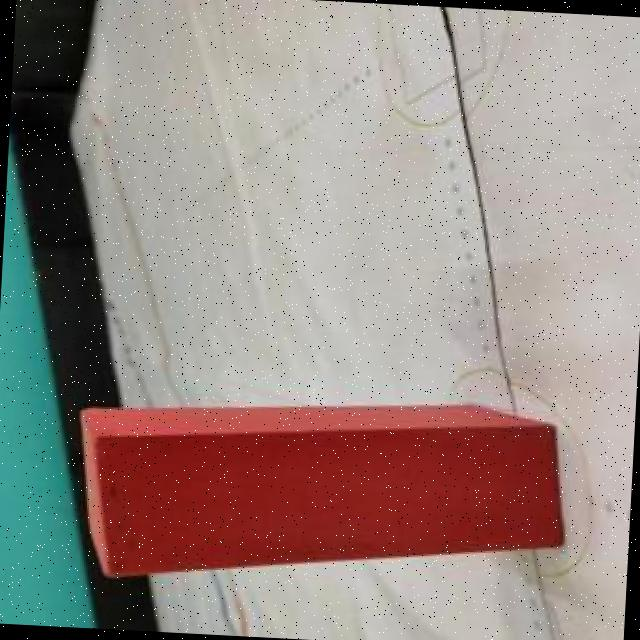redbox: (74, 381, 564, 598)
